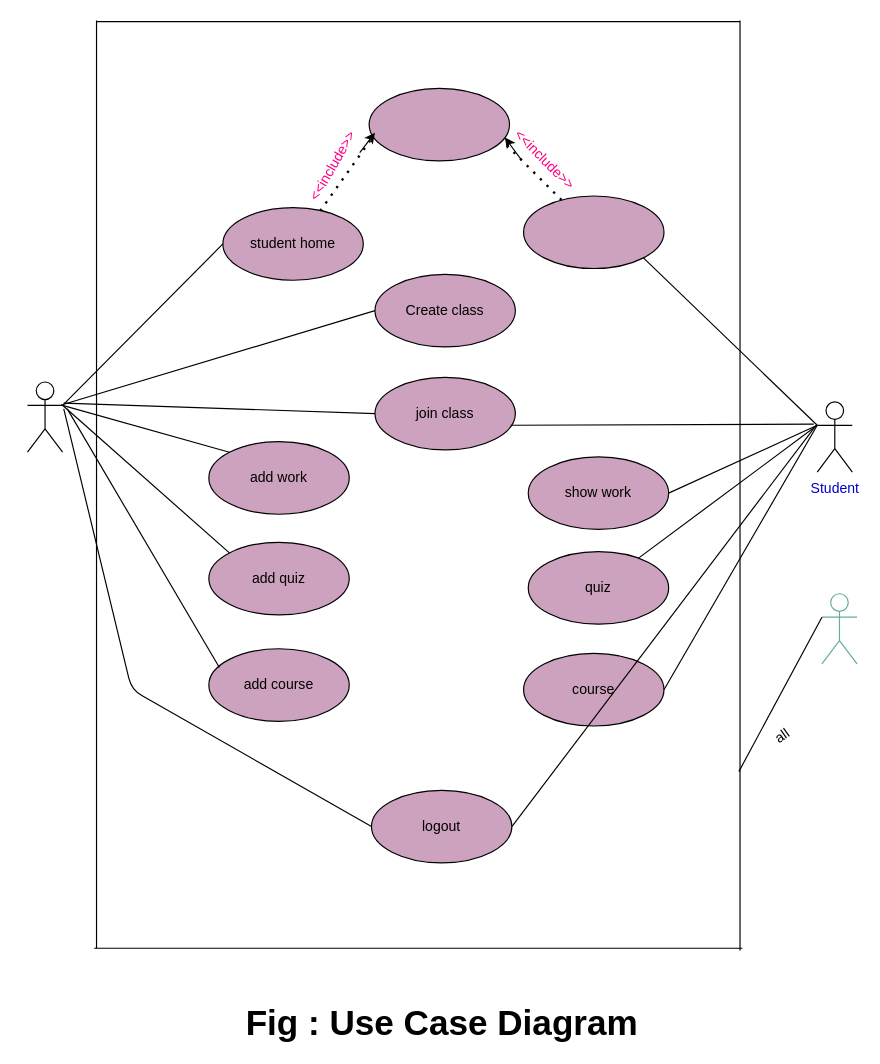
Some shapes in this 880 by 1064 pixel diagram are drawn without their labels. Each missing label, with the box of its shape:
Admin: (821, 593, 857, 664)
authenticate: (368, 87, 510, 161)
Teacher: (26, 381, 63, 452)
teacher home: (522, 195, 664, 269)
